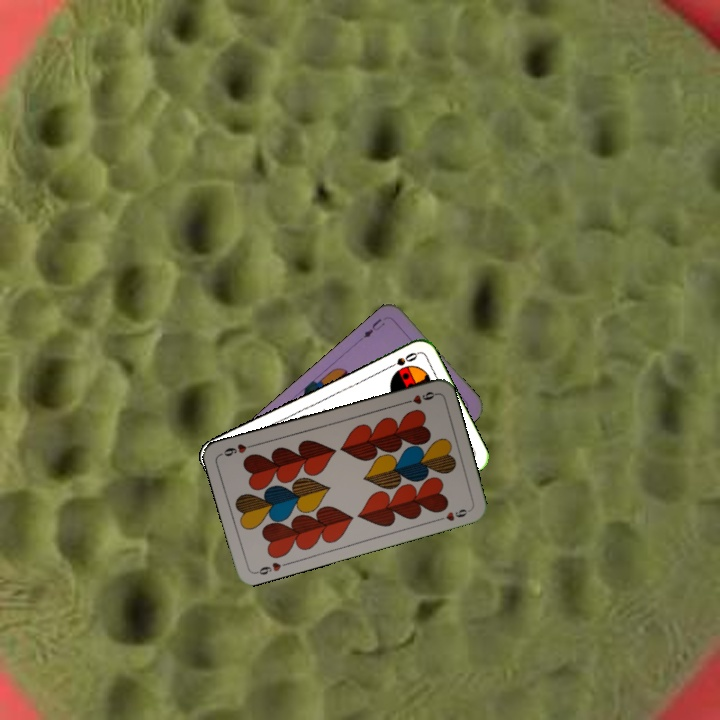EU: (359, 315, 388, 341)
H9: (399, 387, 439, 407), (251, 558, 291, 577)
SO: (382, 348, 420, 372)
